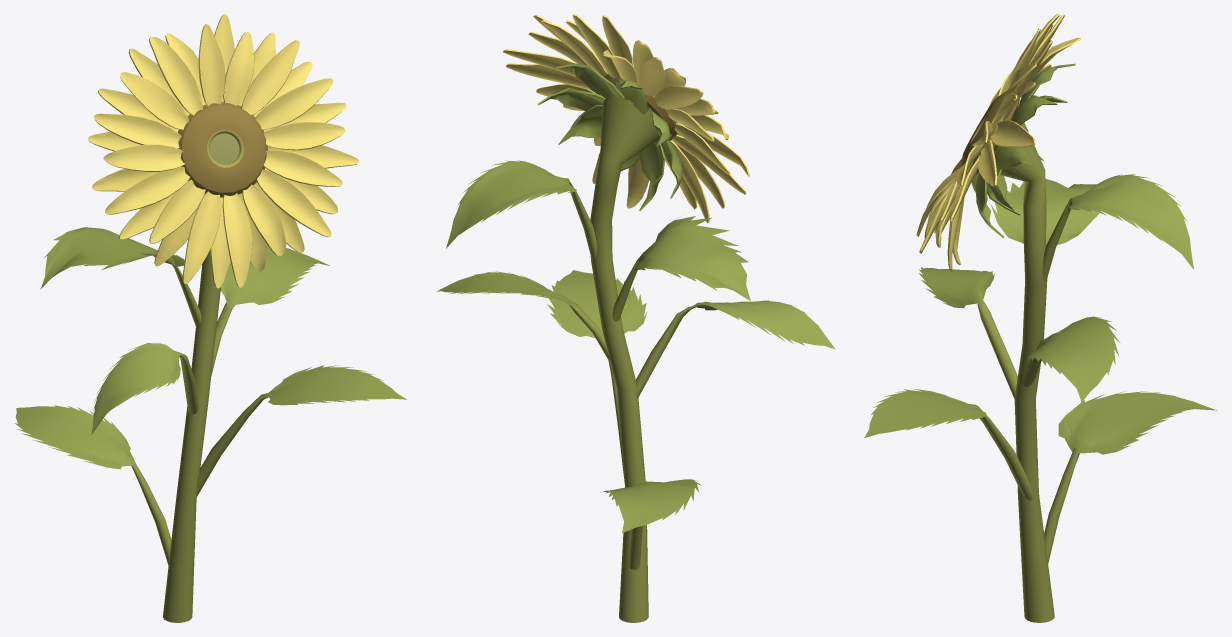
The model's file is sunflower.fbx.
3 renders of one model, left to right at view 1: azimuth 30°, elevation 25°; view 2: azimuth 150°, elevation 25°; view 3: azimuth 270°, elevation 25°, orthographic. The views are drawn at different scales.
Visible parts, largest first — view 1: pCylinder1, pCylinder8, pPlane5, pPlane3, pPlane4, pPlane7, pPlane6, pPlane34, pPlane37, pPlane35, pPlane32, pPlane28 (+30 smaller); view 2: pCylinder1, pPlane7, pPlane8, pPlane3, pPlane4, pPlane5, pPlane6, pCylinder4, pPlane45, pPlane41, pPlane14, pPlane9 (+17 smaller); view 3: pCylinder1, pPlane5, pPlane8, pPlane6, pPlane3, pPlane7, pPlane4, pCylinder4, pCylinder3, pCylinder2, pCylinder8, pPlane1 (+5 smaller).
Boxes of the visible parts, x1=… form: pCylinder1: x1=163, y1=251, x2=220, y2=622; pCylinder8: x1=178, y1=101, x2=267, y2=197; pPlane5: x1=15, y1=405, x2=135, y2=469; pPlane3: x1=265, y1=365, x2=406, y2=405; pPlane4: x1=91, y1=343, x2=180, y2=434; pPlane7: x1=40, y1=227, x2=184, y2=289; pPlane6: x1=220, y1=244, x2=329, y2=308; pPlane34: x1=182, y1=191, x2=220, y2=283; pPlane37: x1=256, y1=169, x2=331, y2=237; pPlane35: x1=222, y1=193, x2=252, y2=287; pPlane32: x1=105, y1=166, x2=190, y2=214; pPlane28: x1=149, y1=37, x2=202, y2=115; pCylinder1: x1=590, y1=94, x2=660, y2=622; pPlane7: x1=635, y1=216, x2=750, y2=301; pPlane8: x1=446, y1=160, x2=576, y2=248; pPlane3: x1=547, y1=270, x2=647, y2=338; pPlane4: x1=692, y1=300, x2=834, y2=348; pPlane5: x1=603, y1=479, x2=700, y2=533; pPlane6: x1=437, y1=271, x2=577, y2=307; pCylinder4: x1=635, y1=304, x2=701, y2=398; pPlane45: x1=639, y1=140, x2=665, y2=210; pPlane41: x1=556, y1=63, x2=624, y2=99; pPlane14: x1=654, y1=85, x2=703, y2=108; pPlane9: x1=506, y1=63, x2=591, y2=90; pCylinder1: x1=994, y1=122, x2=1054, y2=622; pPlane5: x1=1058, y1=391, x2=1216, y2=454; pPlane8: x1=1069, y1=174, x2=1193, y2=269; pPlane6: x1=1028, y1=316, x2=1120, y2=402; pPlane3: x1=864, y1=389, x2=986, y2=437; pPlane7: x1=990, y1=178, x2=1099, y2=244; pPlane4: x1=919, y1=267, x2=994, y2=308; pCylinder4: x1=977, y1=301, x2=1017, y2=398; pCylinder3: x1=970, y1=404, x2=1034, y2=500; pCylinder2: x1=1044, y1=443, x2=1083, y2=563; pCylinder8: x1=961, y1=91, x2=1019, y2=175; pPlane1: x1=990, y1=120, x2=1035, y2=147.
Bounding box in the file's own units: 7.75 × 13.68 × 7.27.
